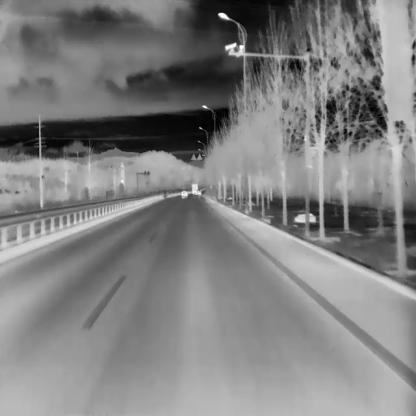car: (181, 189, 187, 197), (196, 189, 200, 195)
truck: (191, 182, 198, 194)
